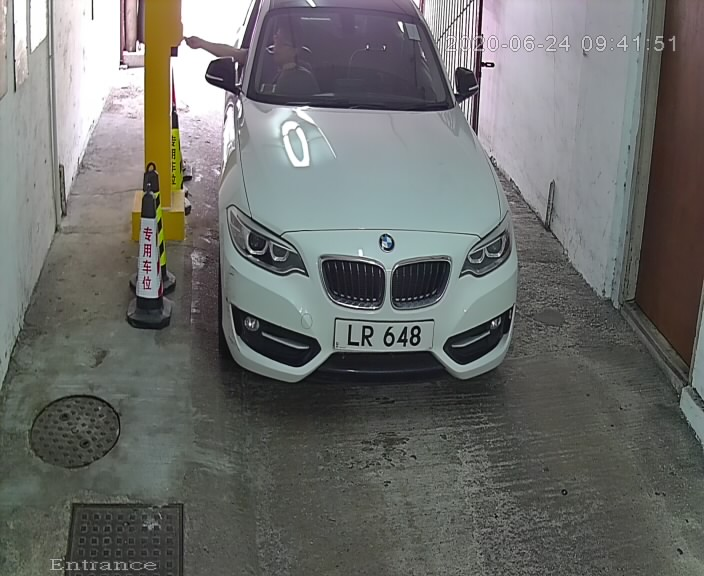Car: (194, 1, 538, 425)
License Plate: (326, 311, 443, 359)
